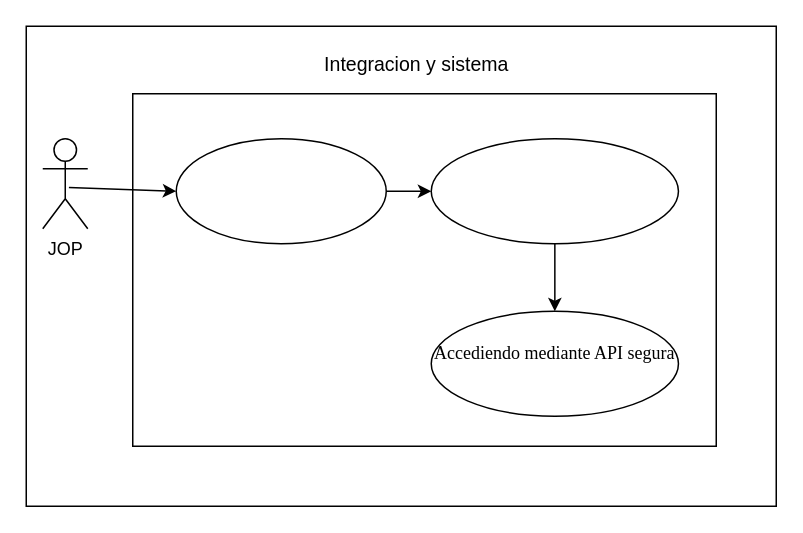
Image size: 803x533. Some labels were removed from this diagram. The shapes that lost their labels are listed below. From the top down, each one's centre as x and y in pixels, then its label:
the point at 280,190: Actualizando el stock de manera instantánea
the point at 554,190: Registrando movimiento de inventario desde otro módulo
